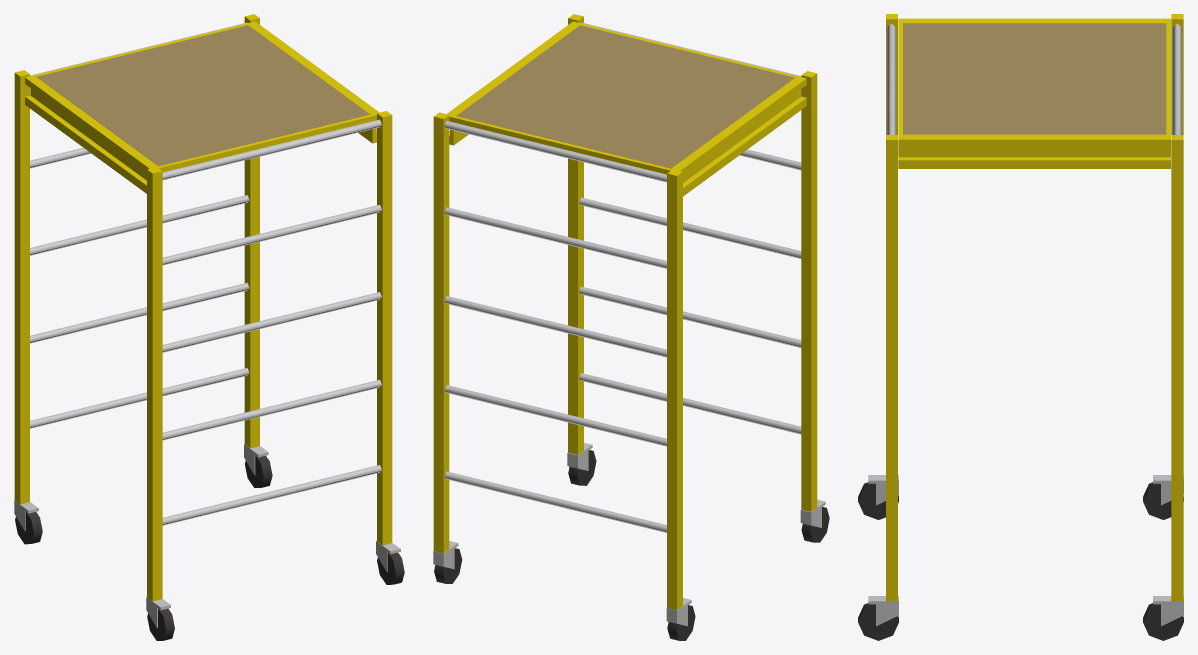
The model's file is SM_ScaffoldingHigh.fbx.
3 renders of one model, left to right at view 1: azimuth 30°, elevation 25°; view 2: azimuth 150°, elevation 25°; view 3: azimuth 270°, elevation 25°, orthographic. The views are drawn at different scales.
Visible parts, largest first — view 1: polySurface11; view 2: polySurface11; view 3: polySurface11.
Part boxes in pixels (x1,y1,x2,y2): polySurface11: (14, 14, 404, 640); polySurface11: (433, 14, 829, 640); polySurface11: (858, 14, 1183, 640).
Bounding box in the file's own units: 128 × 237 × 140.
